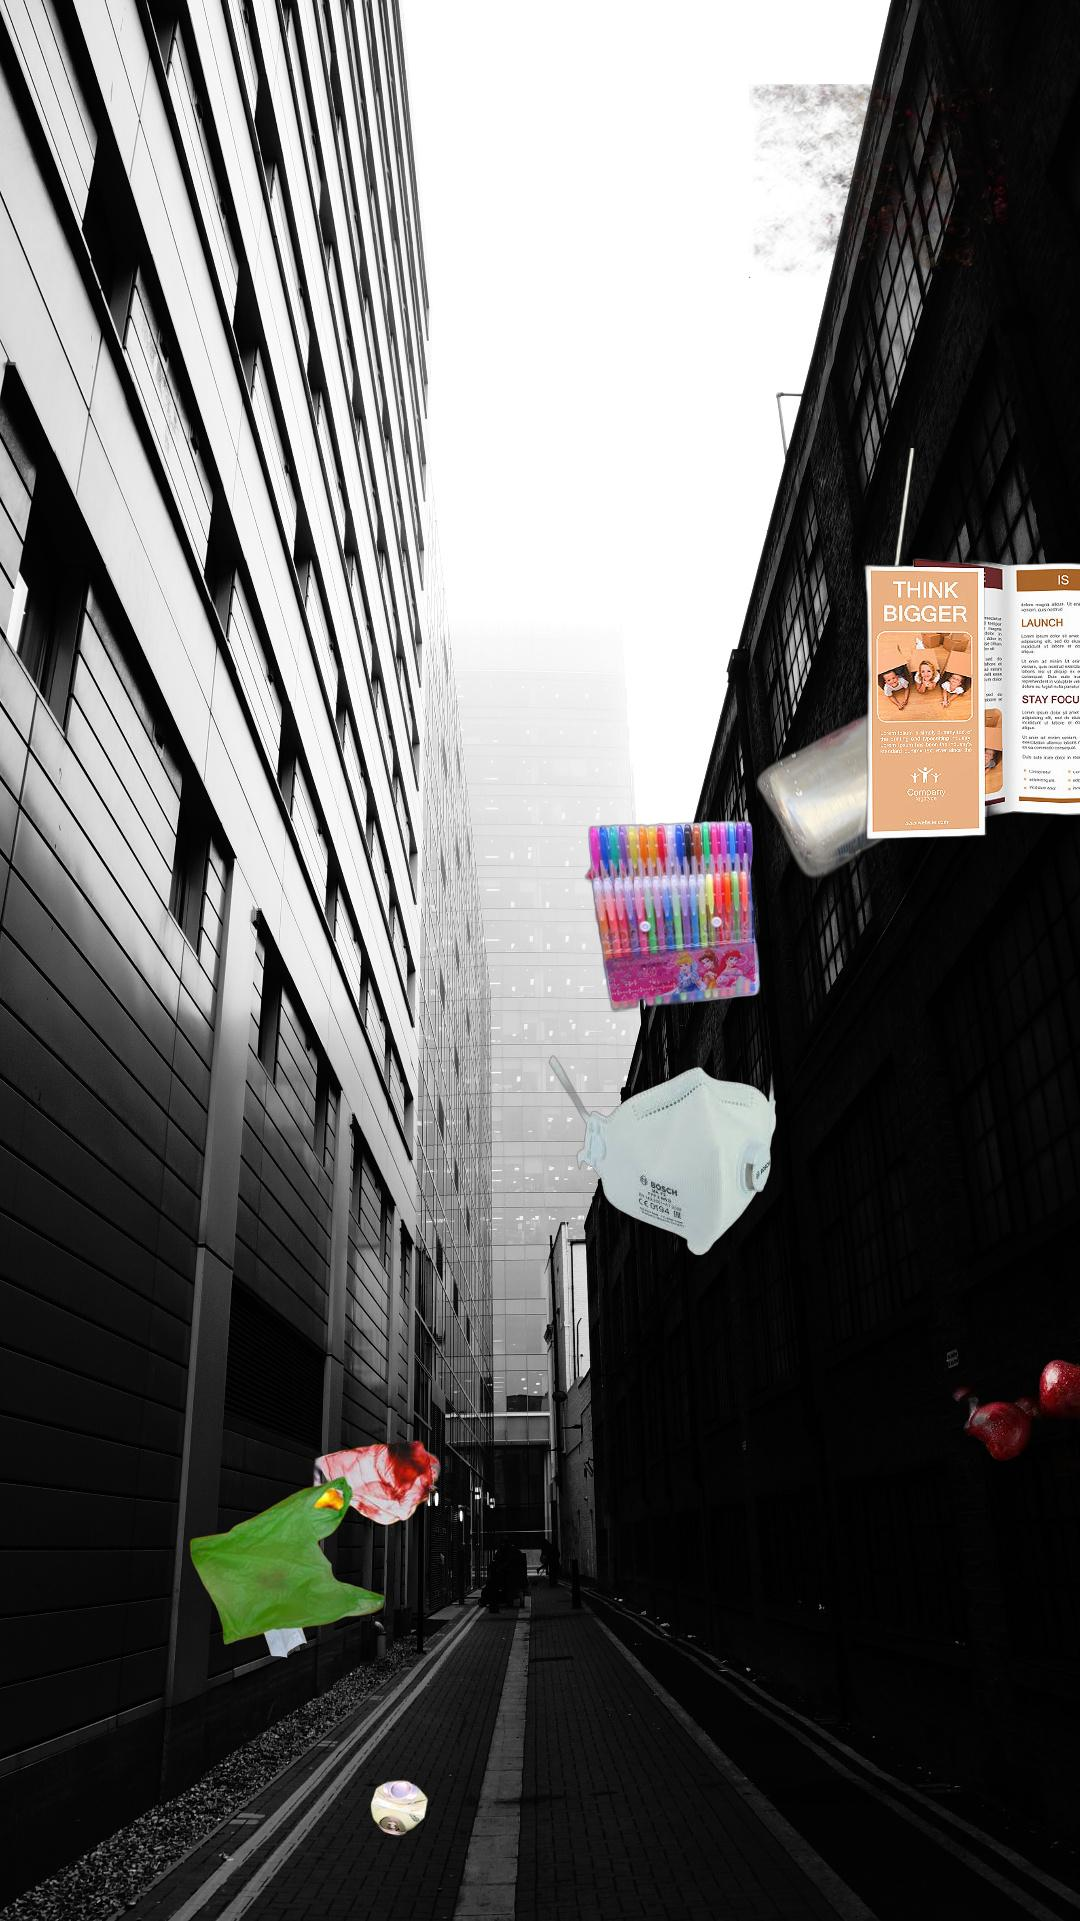biological: (749, 84, 1007, 278), (919, 1315, 1080, 1499)
metal-cans: (257, 1775, 433, 1921)
penholder: (579, 817, 764, 1013)
plastic-bag: (187, 1435, 443, 1660)
plastic-bottles: (752, 449, 1077, 1131)
trash: (543, 1050, 779, 1257)
trashbox-cardboard: (858, 544, 1080, 842)
